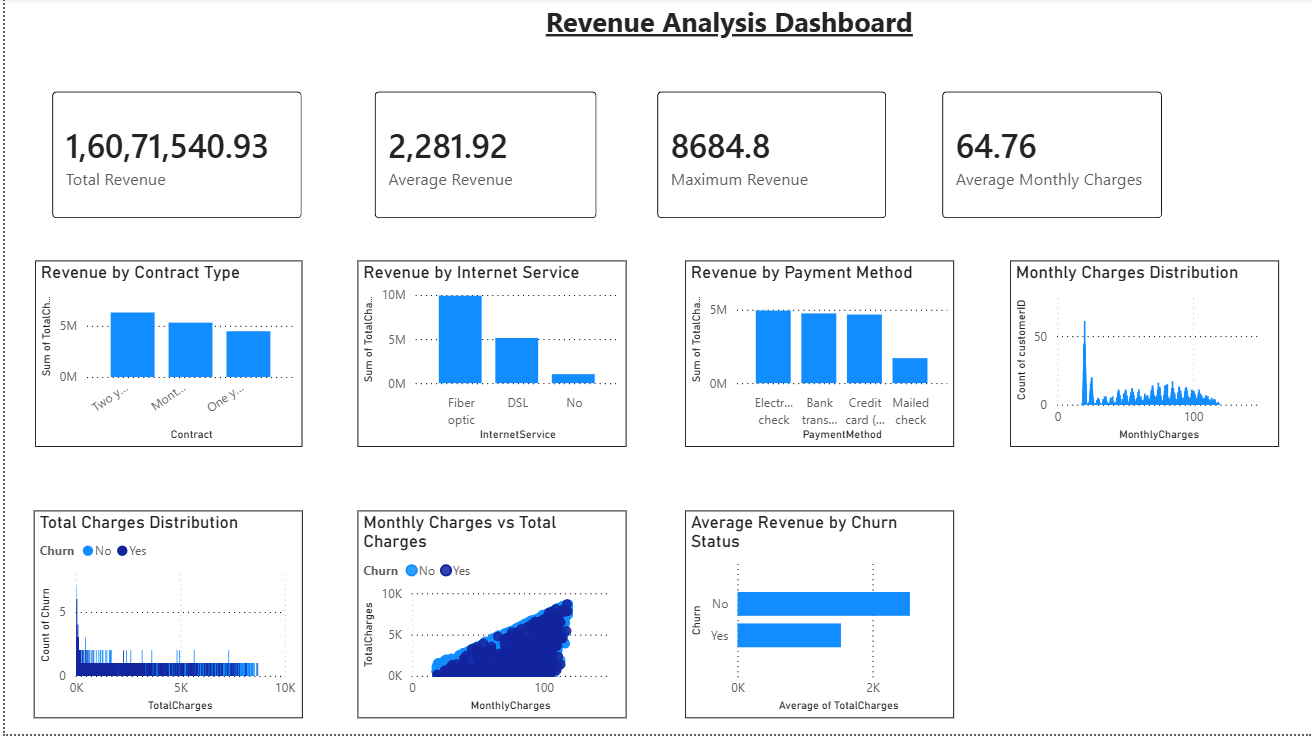

This screenshot's page, from the dashboard's own definition file:
{"tool":"powerbi","page":{"name":"Page 3","canvas":[1280,720],"ordinal":2},"visuals":[{"type":"textbox","box":[251.9,0,913.5,58.7],"z":0},{"type":"clusteredColumnChart","title":"Revenue by Contract Type","fields":{"Category":["Telco-Customer-Churn.Contract"],"Y":["Sum(Telco-Customer-Churn.TotalCharges)"]},"box":[29.3,256.8,261.7,182.2],"z":1000},{"type":"clusteredColumnChart","title":"Revenue by Internet Service","fields":{"Y":["Sum(Telco-Customer-Churn.TotalCharges)"],"Category":["Telco-Customer-Churn.InternetService"]},"box":[344.8,256.8,262.9,182.2],"z":2000},{"type":"clusteredColumnChart","title":"Revenue by Payment Method","fields":{"Category":["Telco-Customer-Churn.PaymentMethod"],"Y":["Sum(Telco-Customer-Churn.TotalCharges)"]},"box":[665.2,256.8,262.9,182.2],"z":3000},{"type":"clusteredColumnChart","title":"Monthly Charges Distribution","fields":{"Category":["Telco-Customer-Churn.MonthlyCharges"],"Y":["CountNonNull(Telco-Customer-Churn.customerID)"]},"box":[983.2,256.8,262.9,182.2],"z":4000},{"type":"clusteredColumnChart","title":"Total Charges Distribution","fields":{"Category":["Telco-Customer-Churn.TotalCharges"],"Y":["CountNonNull(Telco-Customer-Churn.Churn)"],"Series":["Telco-Customer-Churn.Churn"]},"box":[28.1,501.4,262.9,203],"z":5000},{"type":"scatterChart","title":"Monthly Charges vs Total Charges","fields":{"X":["Telco-Customer-Churn.MonthlyCharges"],"Y":["Telco-Customer-Churn.TotalCharges"],"Series":["Telco-Customer-Churn.Churn"]},"box":[344.8,501.4,262.9,203],"z":6000},{"type":"clusteredBarChart","title":"Average Revenue by Churn Status","fields":{"Category":["Telco-Customer-Churn.Churn"],"Y":["Avg(Telco-Customer-Churn.TotalCharges)"]},"box":[665.2,501.4,262.9,203],"z":7000},{"type":"cardVisual","fields":{"Data":["Telco-Customer-Churn.Total Revenue"]},"box":[29.3,74.6,278.8,159],"z":8000},{"type":"cardVisual","fields":{"Data":["Telco-Customer-Churn.Average Revenue"]},"box":[344.8,74.6,251.9,159],"z":9000},{"type":"cardVisual","fields":{"Data":["Telco-Customer-Churn.Maximum Revenue"]},"box":[621.2,74.6,258,159],"z":10000},{"type":"cardVisual","fields":{"Data":["Telco-Customer-Churn.Average Monthly Charges"]},"box":[900,74.6,249.5,159],"z":11000}]}

Visuals, with their boxes in screenshot pixels (x1, y1, x2, y2), scaled from the page's 1280x720 canvas onto the 1312x738 screenshot:
textbox: (left=258, top=0, right=1195, bottom=60)
"Revenue by Contract Type" clusteredColumnChart: (left=30, top=263, right=298, bottom=450)
"Revenue by Internet Service" clusteredColumnChart: (left=353, top=263, right=623, bottom=450)
"Revenue by Payment Method" clusteredColumnChart: (left=682, top=263, right=951, bottom=450)
"Monthly Charges Distribution" clusteredColumnChart: (left=1008, top=263, right=1277, bottom=450)
"Total Charges Distribution" clusteredColumnChart: (left=29, top=514, right=298, bottom=722)
"Monthly Charges vs Total Charges" scatterChart: (left=353, top=514, right=623, bottom=722)
"Average Revenue by Churn Status" clusteredBarChart: (left=682, top=514, right=951, bottom=722)
cardVisual - Telco-Customer-Churn.Total Revenue: (left=30, top=76, right=316, bottom=239)
cardVisual - Telco-Customer-Churn.Average Revenue: (left=353, top=76, right=612, bottom=239)
cardVisual - Telco-Customer-Churn.Maximum Revenue: (left=637, top=76, right=901, bottom=239)
cardVisual - Telco-Customer-Churn.Average Monthly Charges: (left=922, top=76, right=1178, bottom=239)
